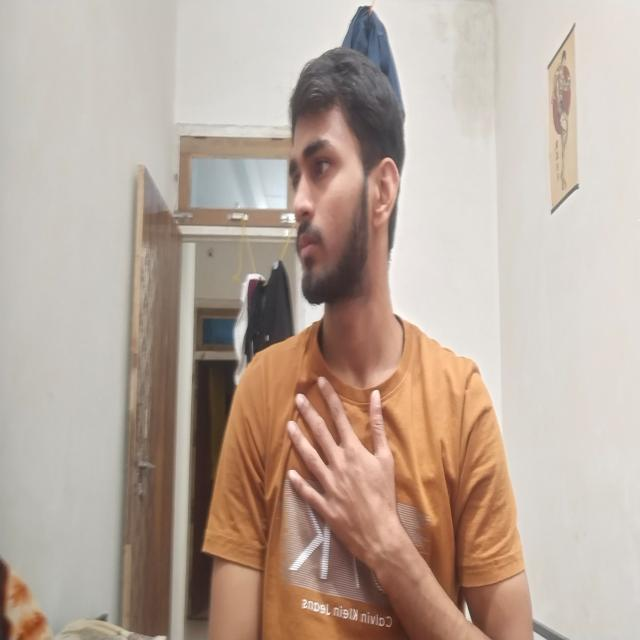Please: (276, 316, 424, 561)
